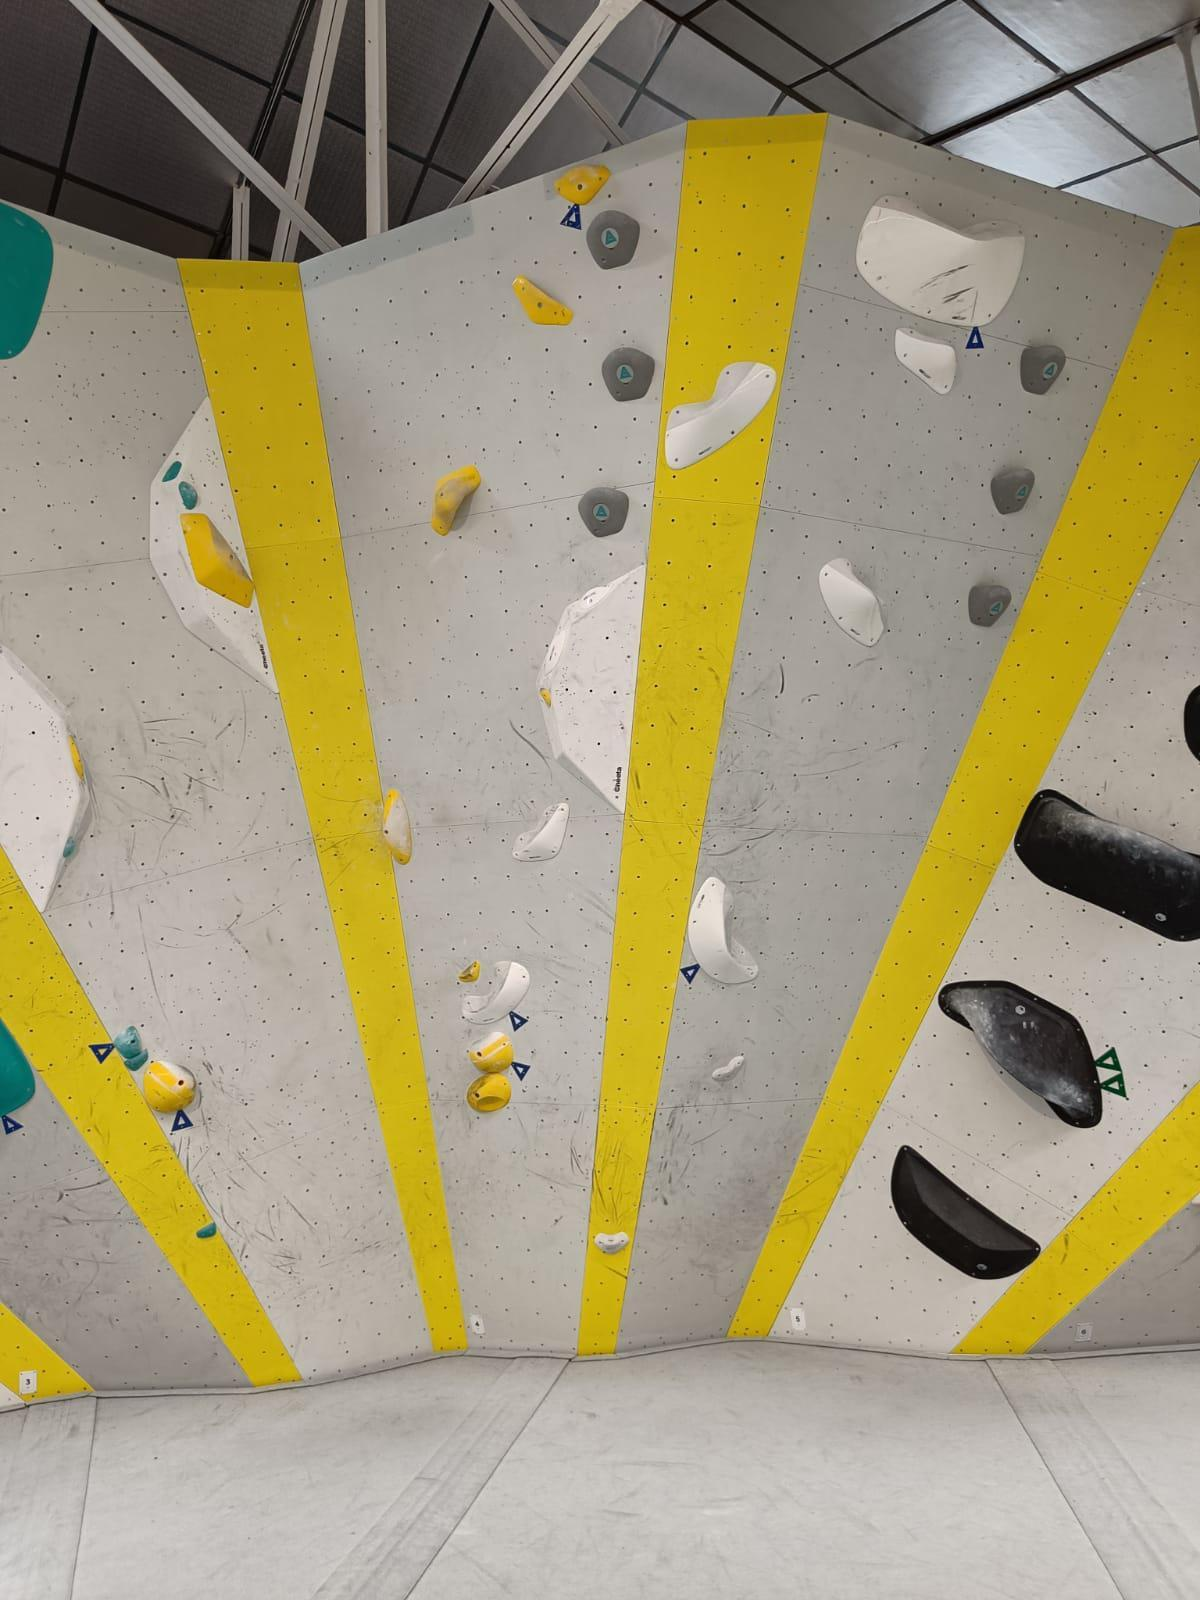hold: (1013, 789, 1200, 942), (938, 980, 1103, 1128), (855, 194, 1026, 326), (890, 1145, 1041, 1280), (664, 362, 778, 470), (0, 202, 53, 359), (687, 876, 760, 984), (179, 513, 255, 607), (818, 557, 885, 646), (460, 960, 531, 1026), (894, 328, 957, 394), (431, 464, 482, 535), (0, 1015, 35, 1117), (512, 803, 570, 862), (585, 209, 640, 270), (512, 273, 575, 326), (601, 346, 655, 402), (144, 1060, 197, 1114), (579, 486, 629, 537), (552, 164, 611, 205), (1020, 345, 1065, 394), (383, 789, 412, 864), (991, 469, 1035, 514), (968, 585, 1012, 627), (469, 1032, 514, 1073), (466, 1072, 512, 1112), (1184, 683, 1200, 762), (112, 1026, 142, 1058), (711, 1056, 745, 1082), (68, 734, 84, 781), (580, 586, 613, 609), (594, 1232, 629, 1252), (124, 1048, 149, 1071), (179, 481, 198, 510), (458, 960, 480, 984), (161, 461, 182, 483), (195, 1221, 217, 1238), (63, 835, 77, 858), (539, 688, 551, 707)
volume: (149, 396, 280, 694), (536, 564, 647, 814), (0, 643, 91, 913), (1191, 1192, 1200, 1206)
